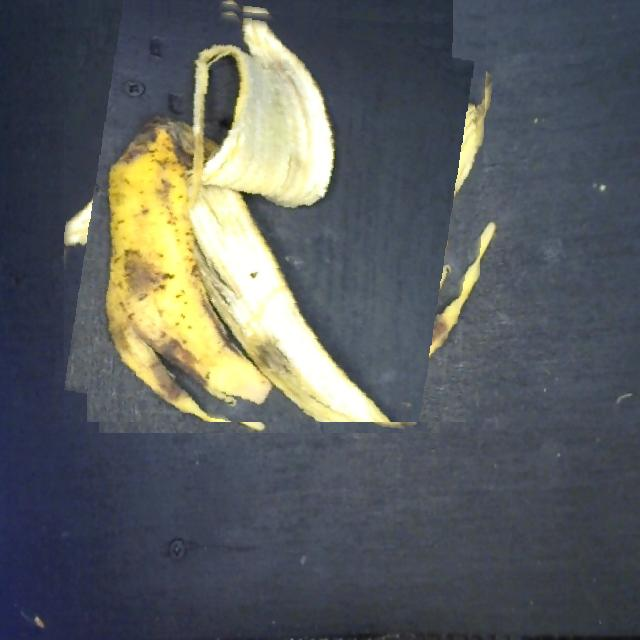biodegradable: (64, 0, 487, 422)
